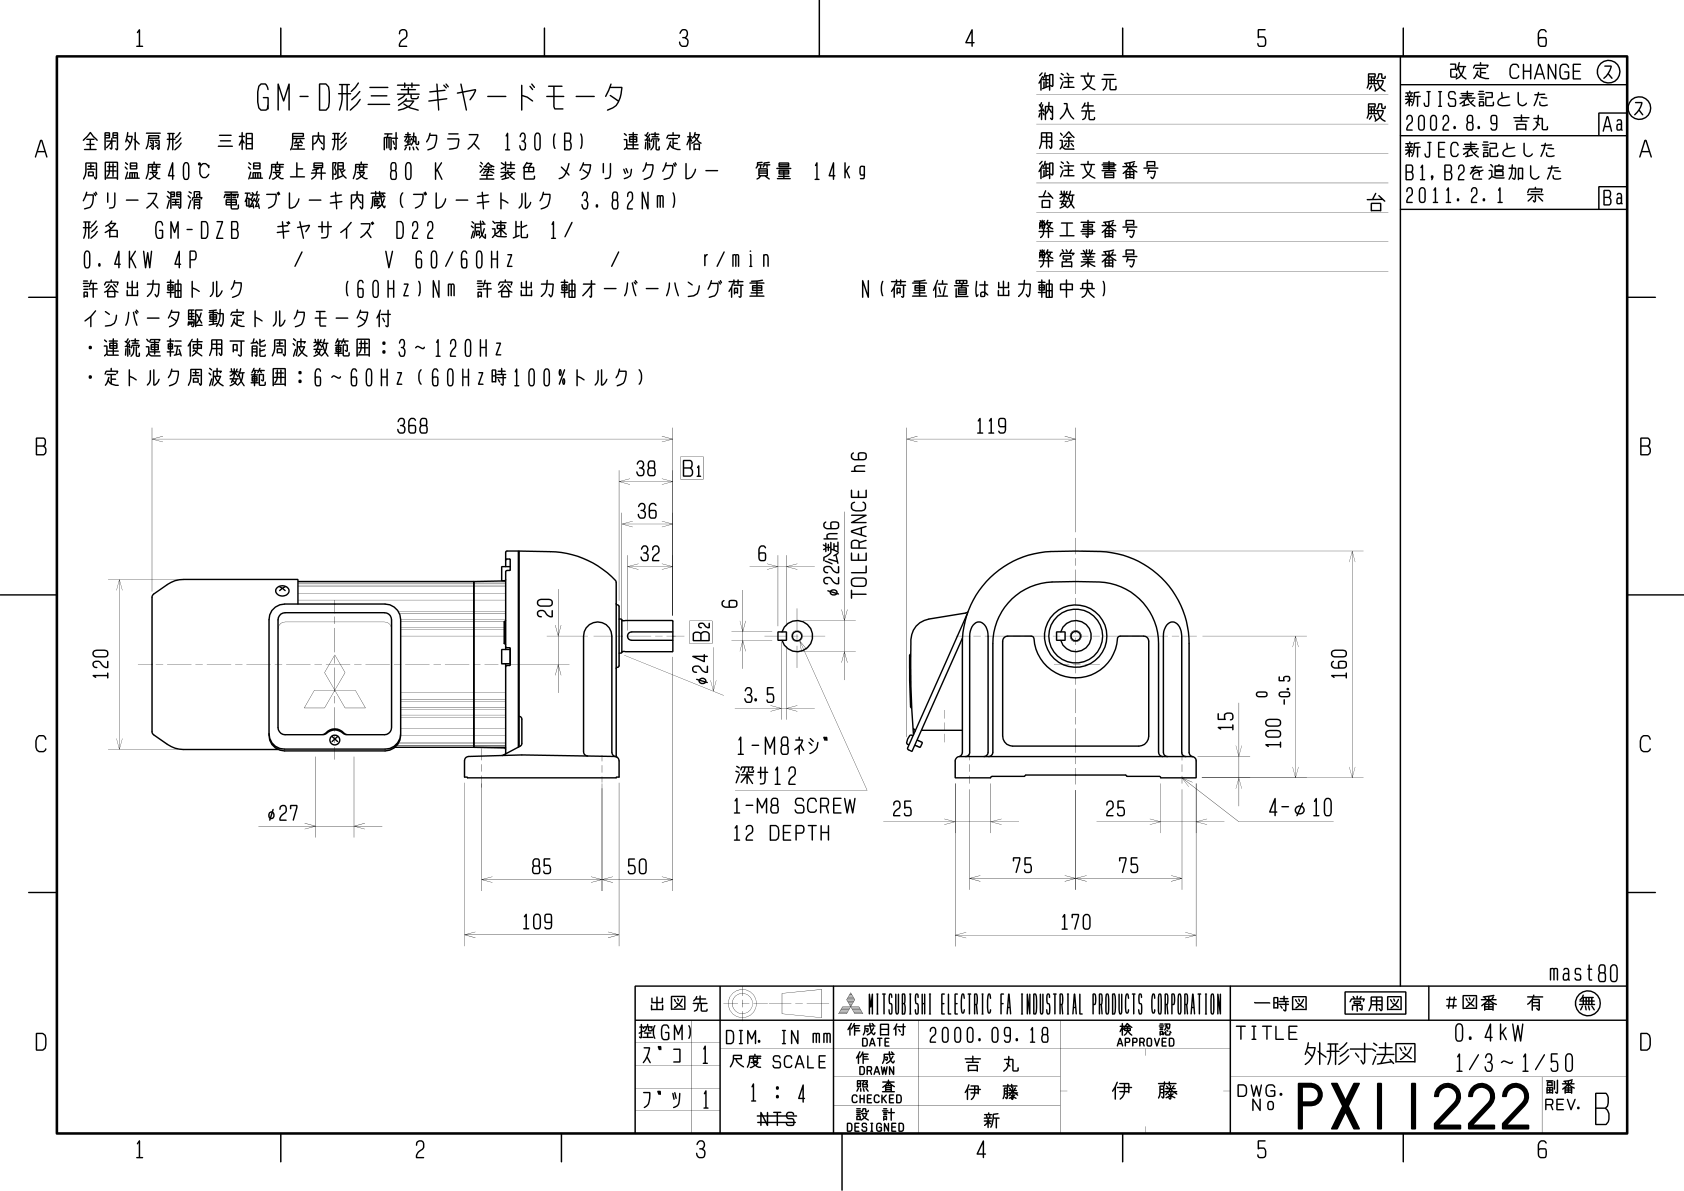GM_D_インバータ屋内_三相_脚: (71, 400, 1383, 959)
